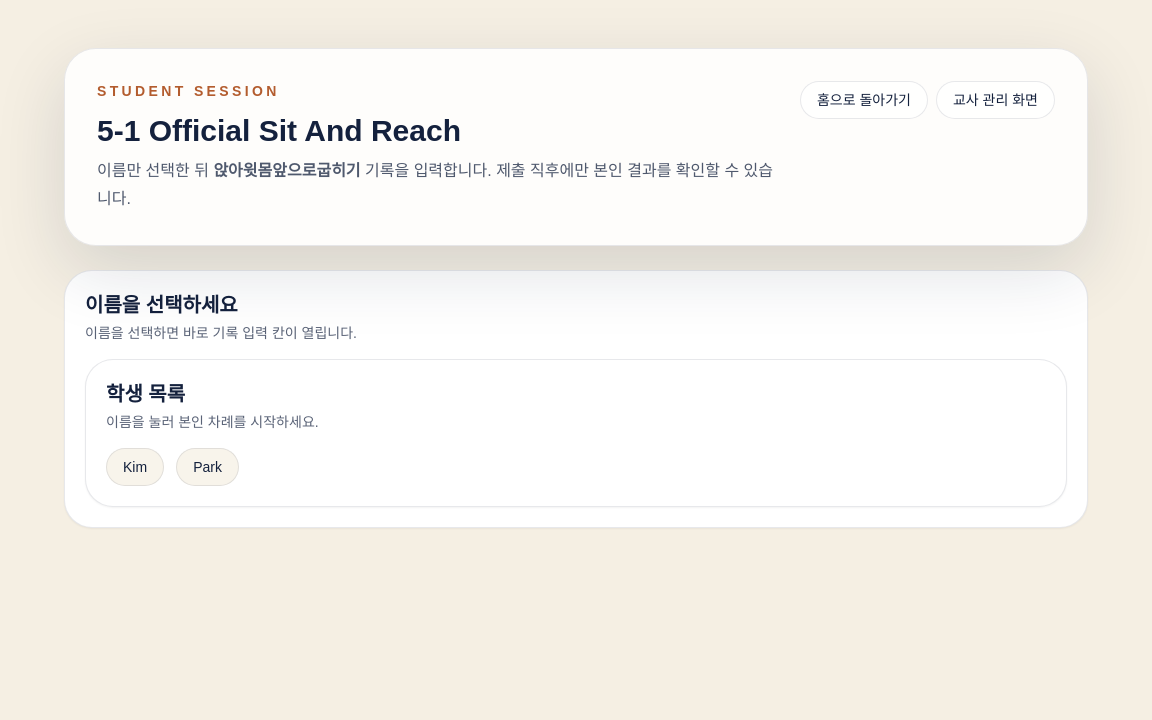
Test case: student session flow › submits a new attempt for a one-class session
Click the button "Kim" at (135, 467), box [106,448,164,486]
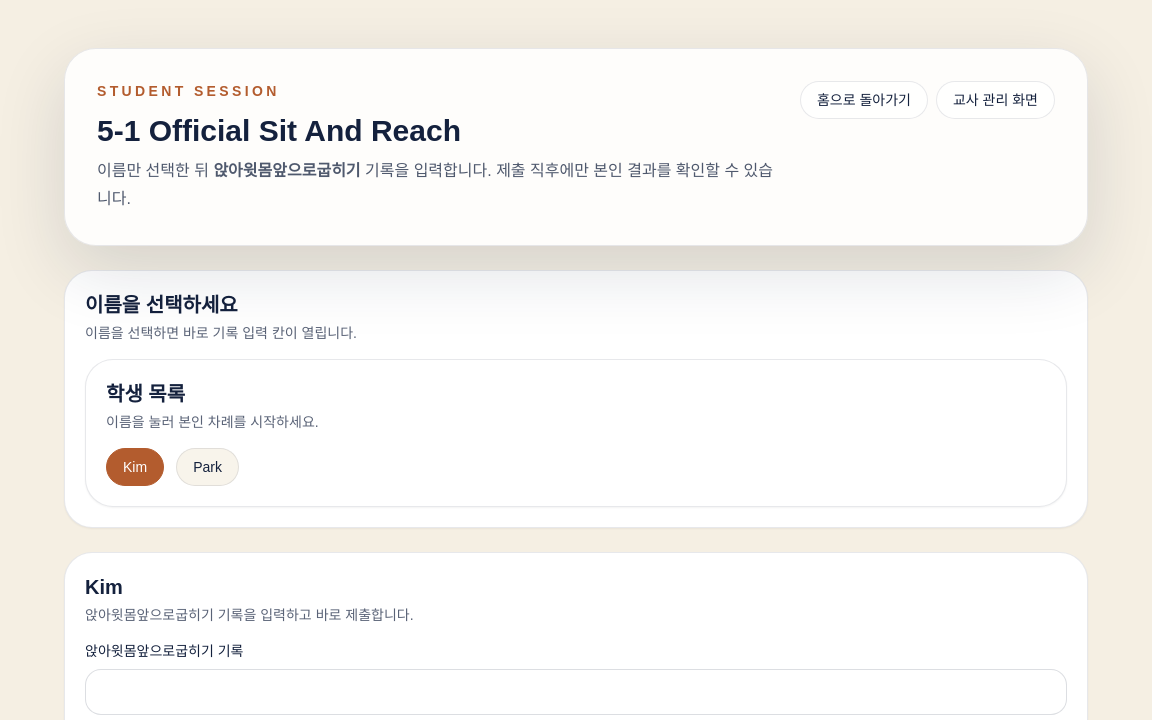
Type "24" into the number field labelled "앉아윗몸앞으로굽히기 기록" at (576, 692), box [85,669,1067,715]
(page scrolled)
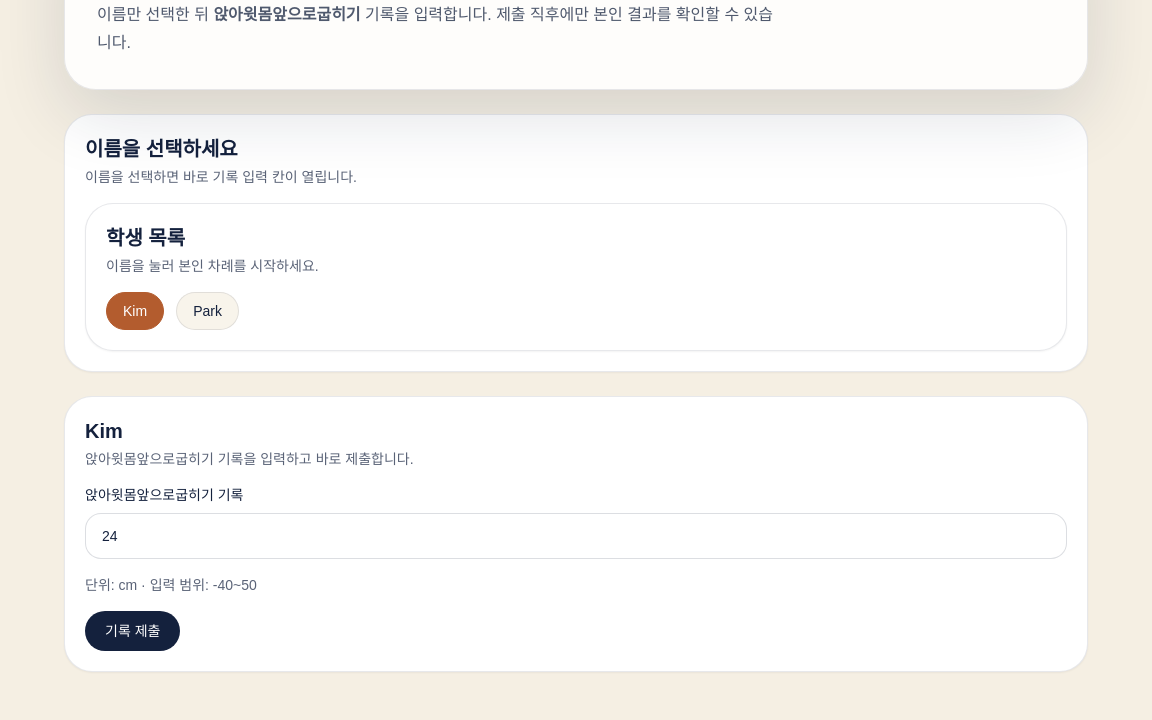
Click the button "기록 제출" at (133, 631), box [85,611,180,651]
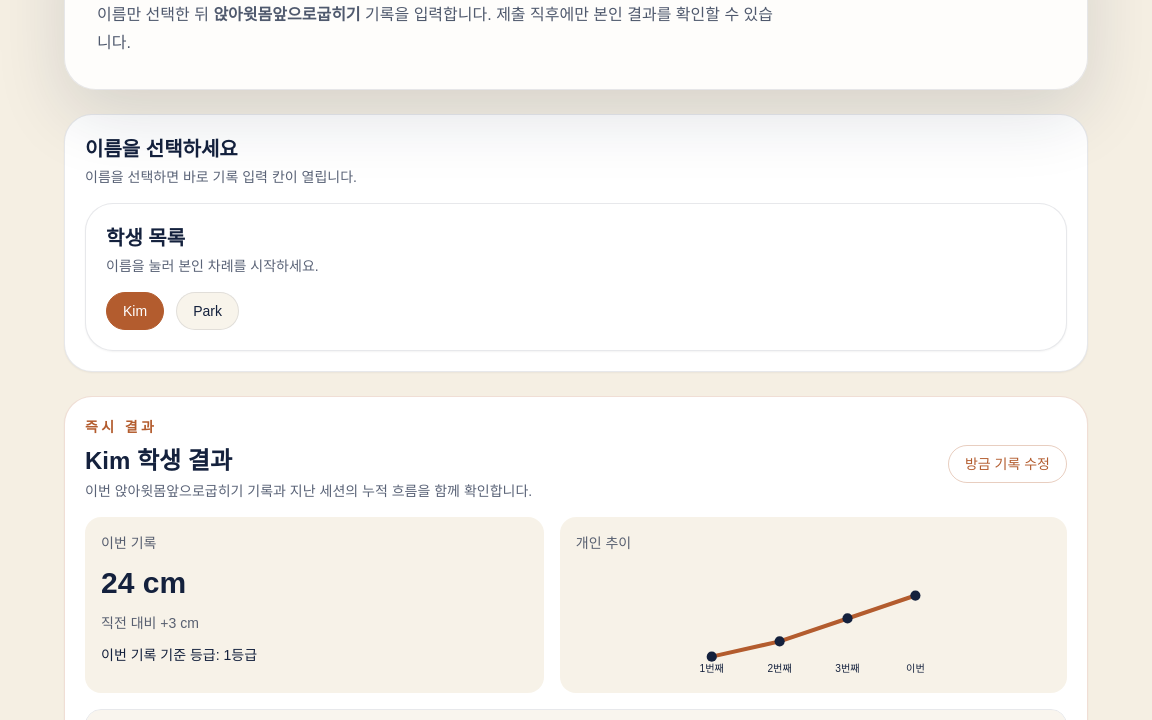
expect the heading "Kim 학생 결과" is shown: met, box [85,447,232,474]
